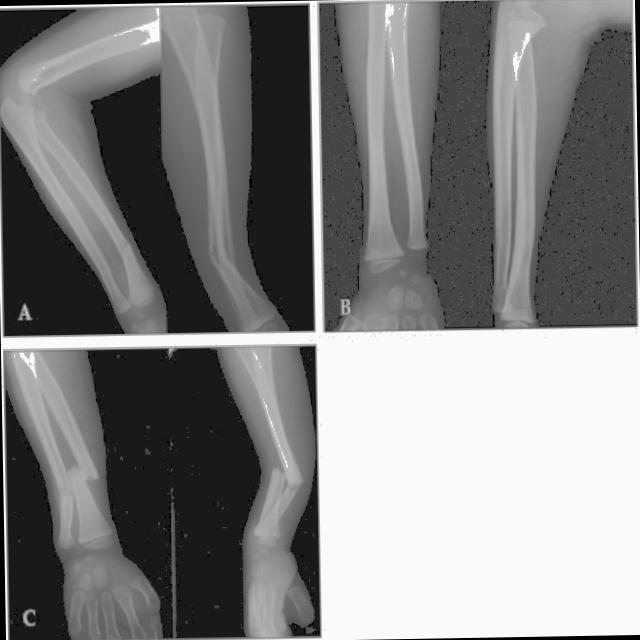GreenStick Fracture: (264, 454, 304, 504), (504, 23, 539, 80), (62, 451, 101, 489)
